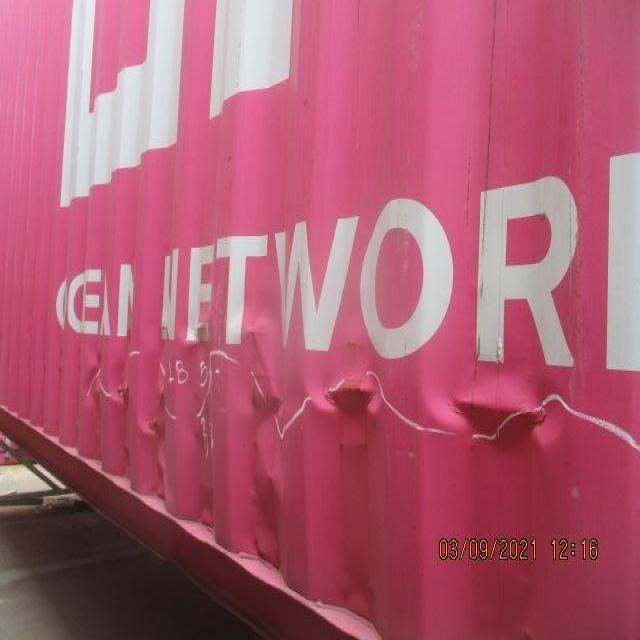dent: (76, 289, 586, 509)
